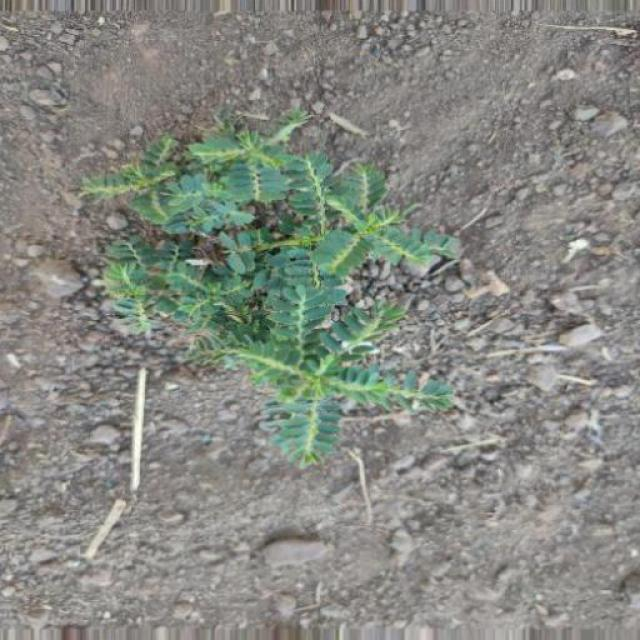weed: (101, 122, 488, 456)
